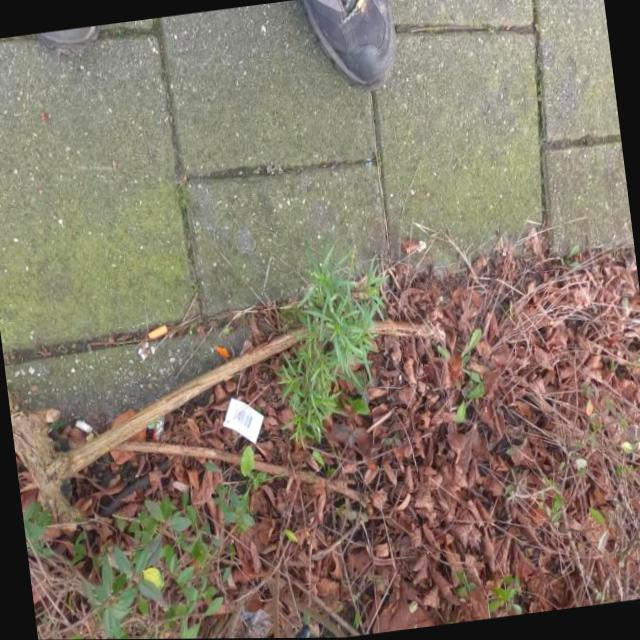Paper: (218, 388, 268, 447)
